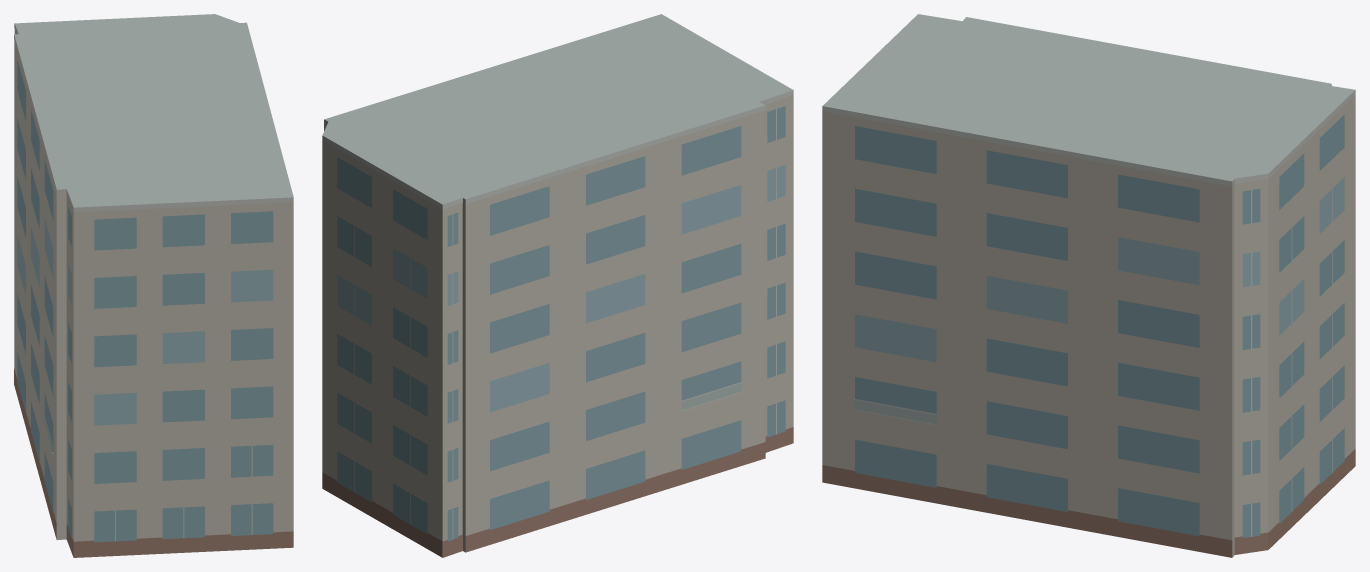
The model's file is survey-upis-33009694.glb.
The picture shows the model from 3 angles, left to right: view 1: azimuth 30°, elevation 25°; view 2: azimuth 150°, elevation 25°; view 3: azimuth 270°, elevation 25°; orthographic projection. The views are drawn at different scales.
Parts seen in each view (by area): view 1: survey-upis-33009694.tmp; view 2: survey-upis-33009694.tmp; view 3: survey-upis-33009694.tmp.
Boxes of the visible parts, box(x1,y1,x2,y2) form: survey-upis-33009694.tmp: box(14, 14, 293, 557); survey-upis-33009694.tmp: box(322, 14, 793, 557); survey-upis-33009694.tmp: box(822, 14, 1355, 557).
Bounding box in the file's own units: 16.9 × 17.7 × 22.73.
